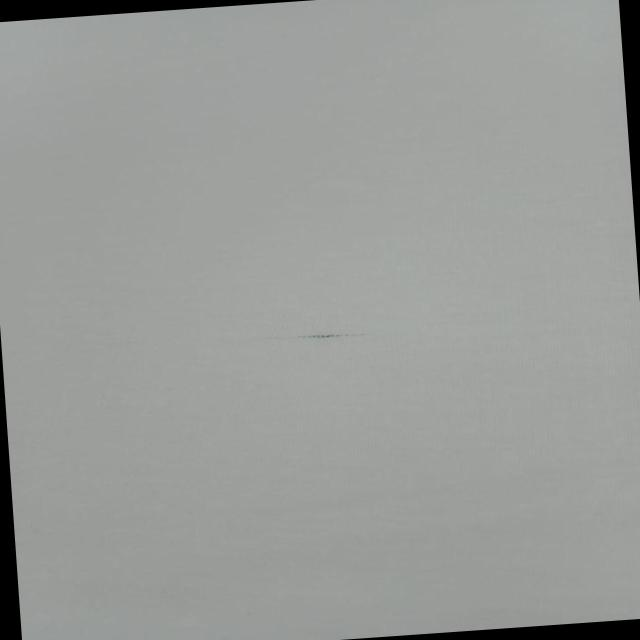contamination: (278, 322, 362, 348)
